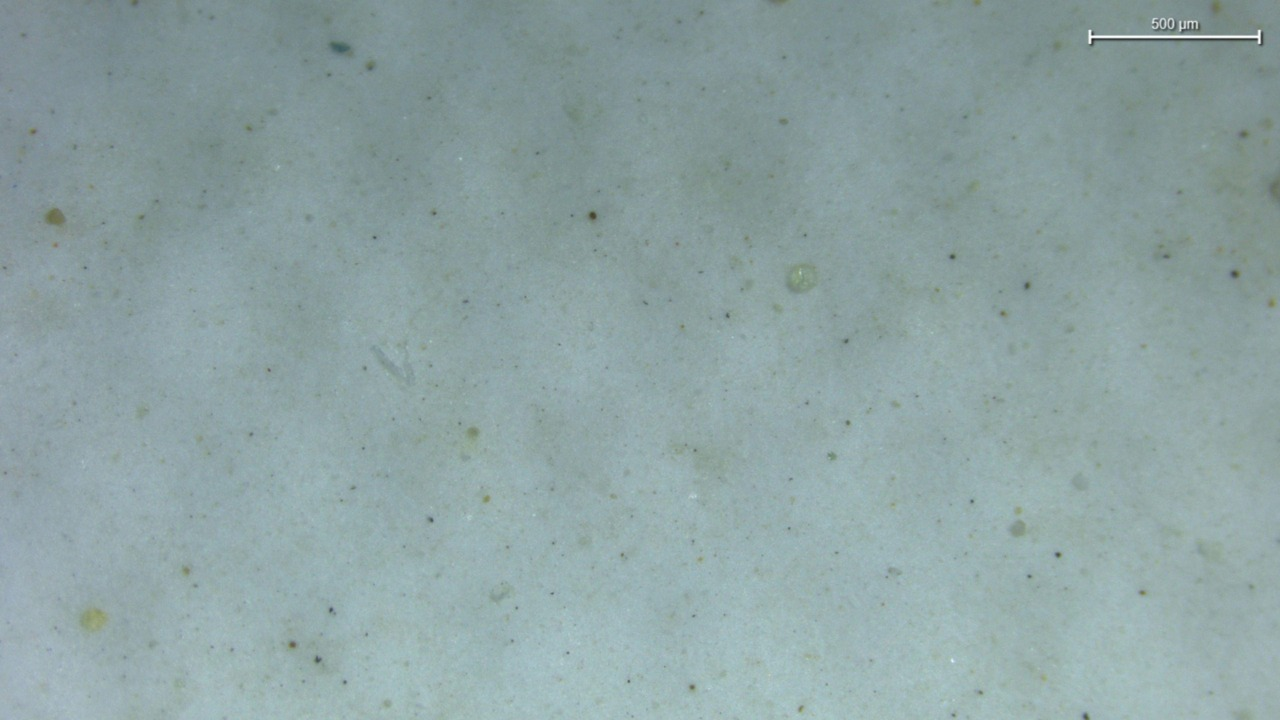microplastic_fragment: (371, 345, 415, 385)
